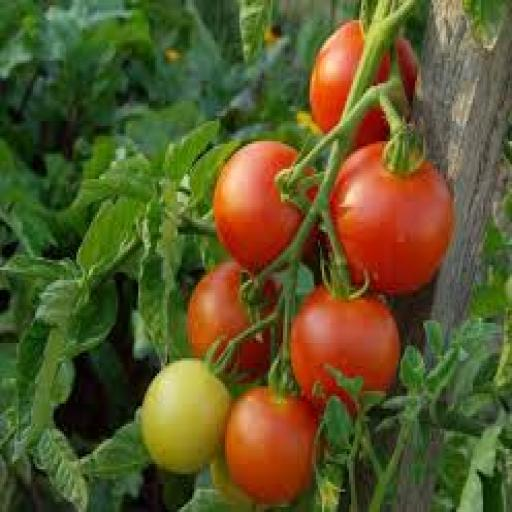tomato: (331, 144, 454, 295), (292, 288, 400, 411), (213, 142, 303, 272), (226, 389, 317, 504), (141, 359, 231, 474), (310, 21, 365, 131), (188, 263, 249, 358), (211, 454, 251, 511), (395, 38, 419, 103), (506, 275, 511, 305)
